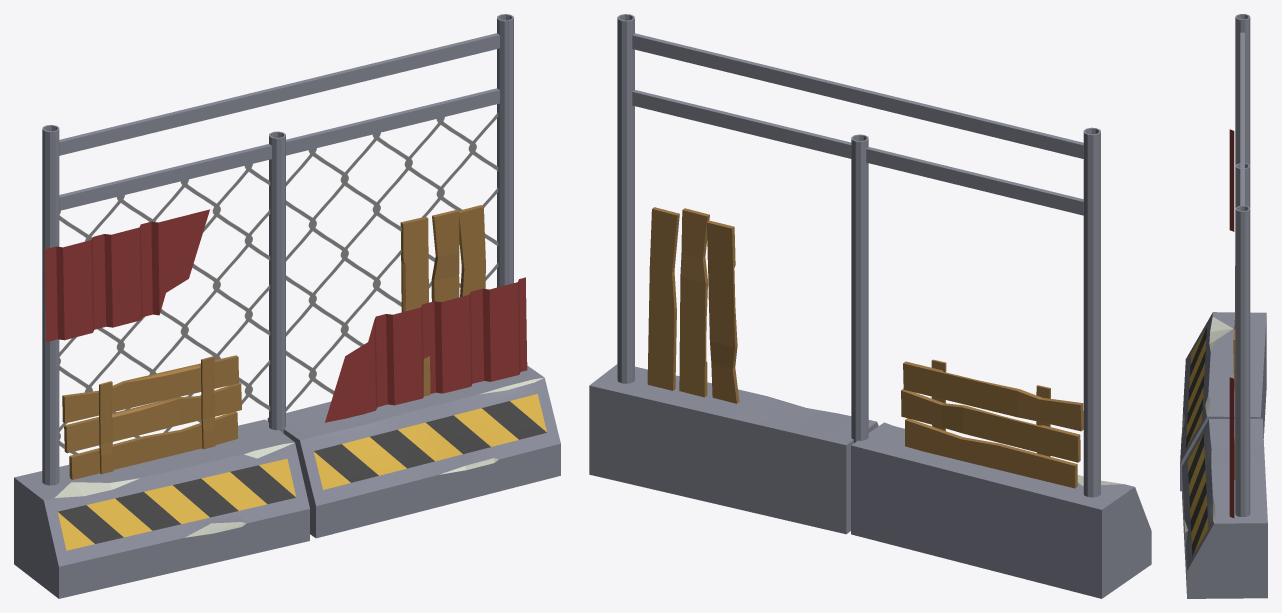
File: Fence.glb
The picture shows the model from 3 angles, left to right: view 1: azimuth 30°, elevation 25°; view 2: azimuth 150°, elevation 25°; view 3: azimuth 270°, elevation 25°; orthographic projection. The views are drawn at different scales.
Parts seen in each view (by area): view 1: Barrier_Fixed; view 2: Barrier_Fixed; view 3: Barrier_Fixed.
Part boxes in pixels (box(x1,y1,x2,y2)): Barrier_Fixed: box(14, 14, 560, 598); Barrier_Fixed: box(589, 14, 1151, 598); Barrier_Fixed: box(1180, 14, 1267, 598).
Bounding box in the file's own units: 3.81 × 3.18 × 0.6666.
Materials: 7 (1 with a texture image).
